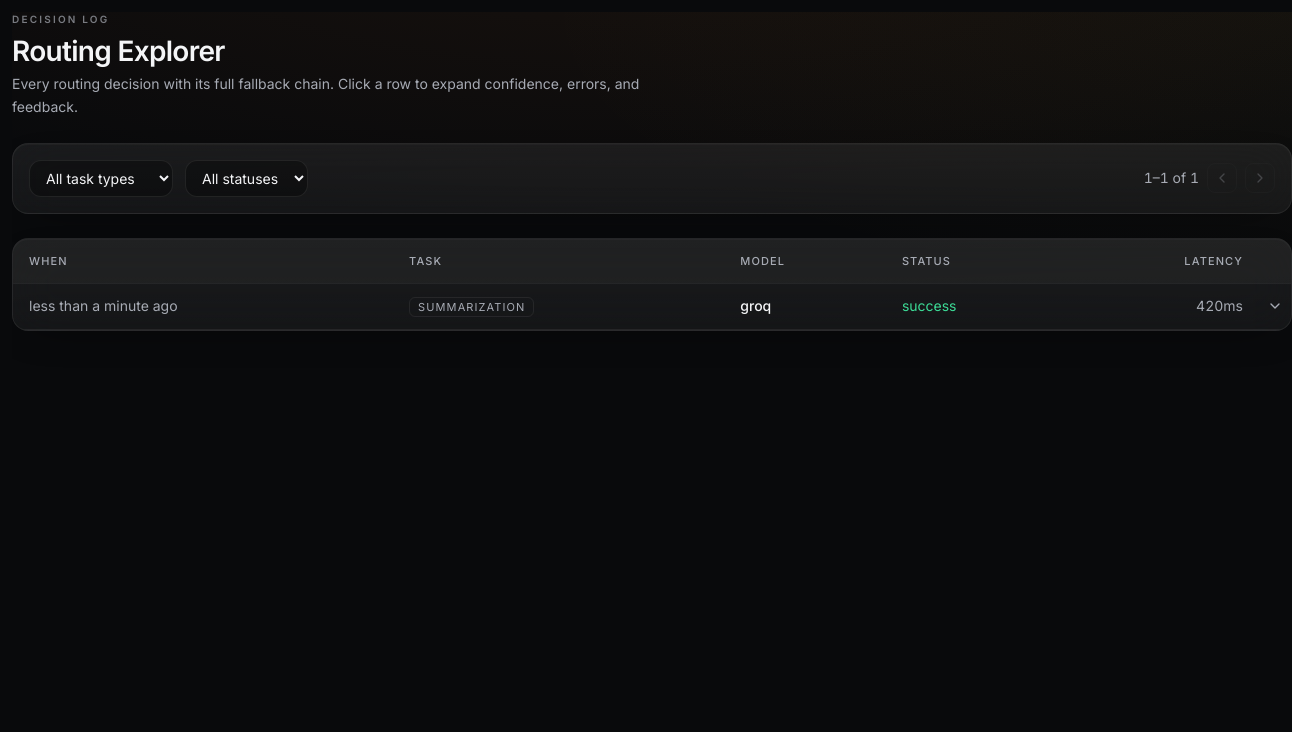
Scenario: RoutingExplorer feedback widget › renders the already-rated state immediately when feedback_given is true
Click the 2nd row at (652, 306), box [13,283,1291,329]
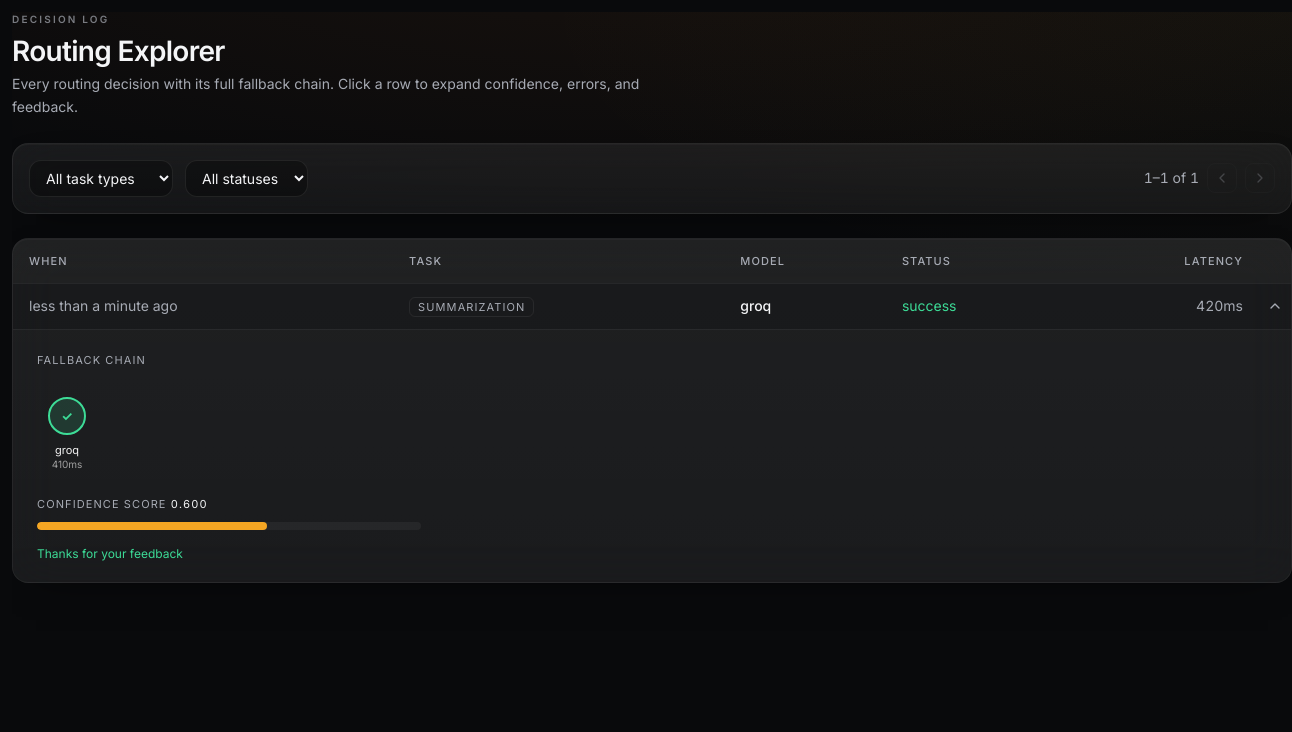
Expected: the text "Thanks for your feedback" is shown, [37,546,183,560]
